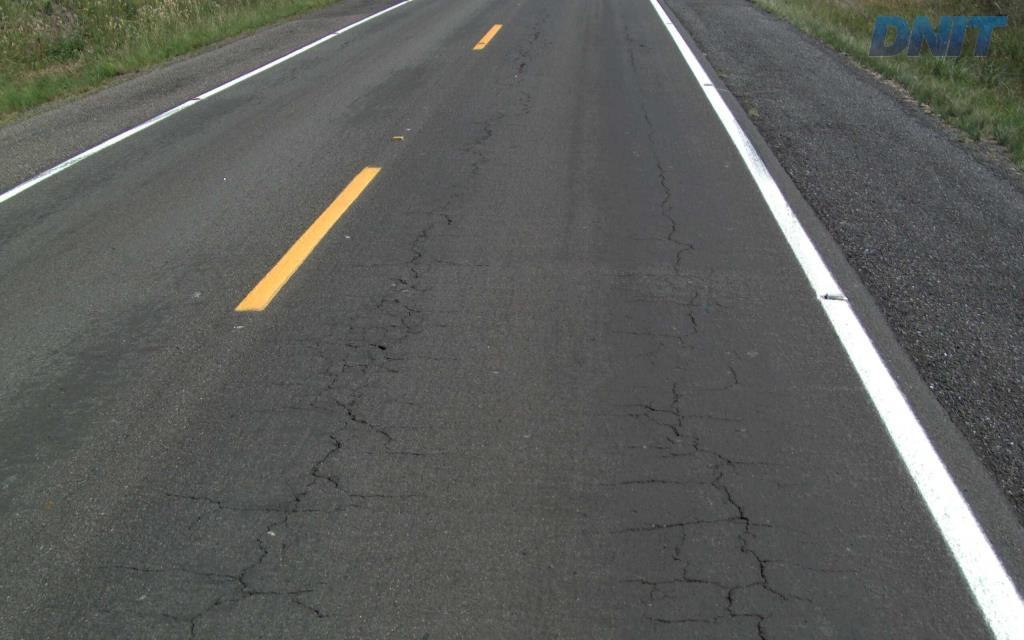crack: (619, 517, 711, 562), (734, 534, 789, 603), (710, 581, 772, 639), (710, 471, 759, 534), (624, 567, 708, 601)
